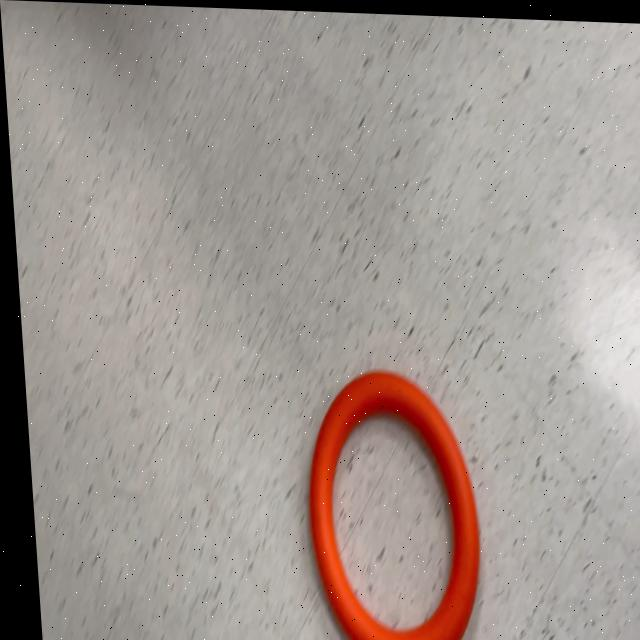note: (295, 361, 478, 640)
